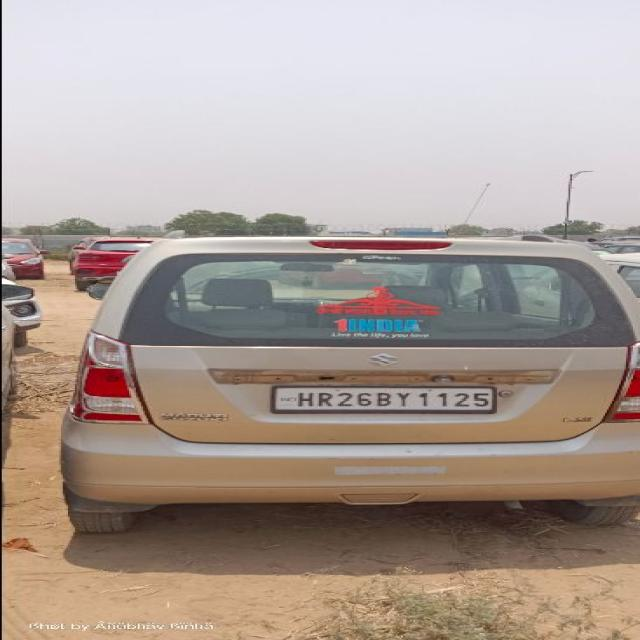license_plate: (269, 384, 497, 414)
